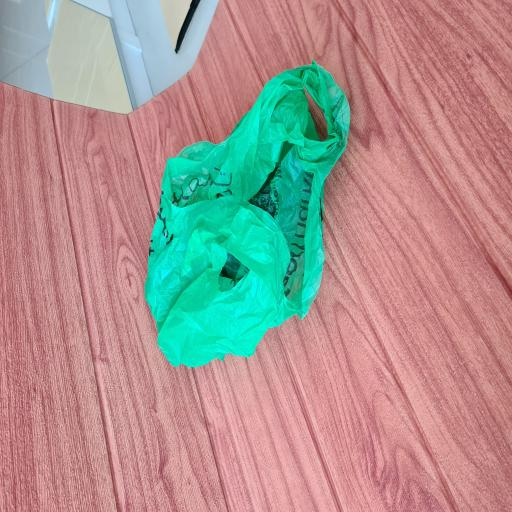plastic bag: (143, 62, 352, 369)
